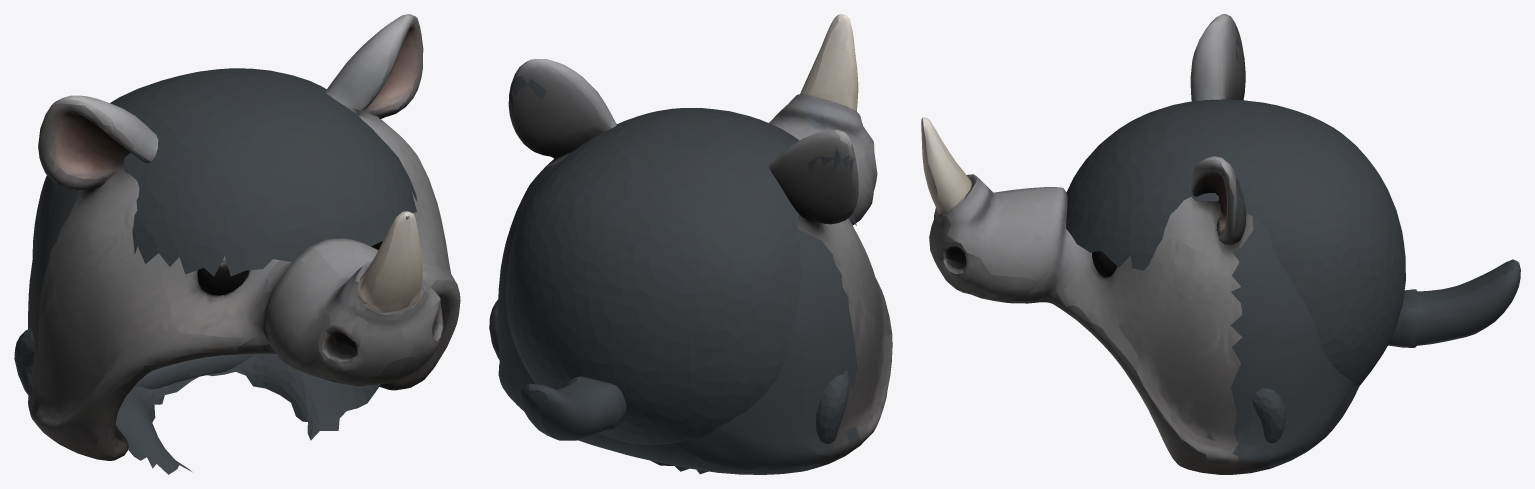
File: rhino.glb
3 renders of one model, left to right at view 1: azimuth 30°, elevation 25°; view 2: azimuth 150°, elevation 25°; view 3: azimuth 270°, elevation 25°, orthographic. The views are drawn at different scales.
Visible parts, largest first — view 1: geometry_0, HoodAnatomicalLining; view 2: HoodAnatomicalLining, geometry_0; view 3: geometry_0, HoodAnatomicalLining.
Part boxes in pixels (x1=…): geometry_0: x1=28, y1=14, x2=460, y2=460; HoodAnatomicalLining: x1=14, y1=68, x2=416, y2=474; HoodAnatomicalLining: x1=489, y1=108, x2=856, y2=474; geometry_0: x1=497, y1=14, x2=892, y2=474; geometry_0: x1=921, y1=14, x2=1520, y2=474; HoodAnatomicalLining: x1=1066, y1=99, x2=1405, y2=443.
Size of the model in its own units: 0.4805 by 0.4521 by 0.7077.
Materials: 2 (1 with a texture image).
